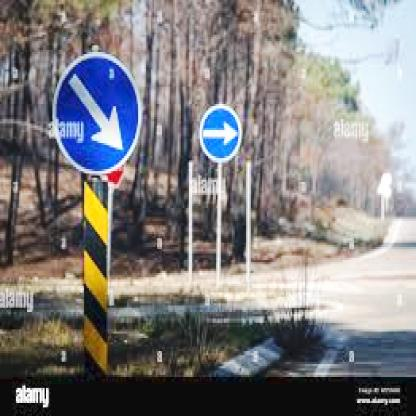Keep right: (52, 54, 145, 180)
